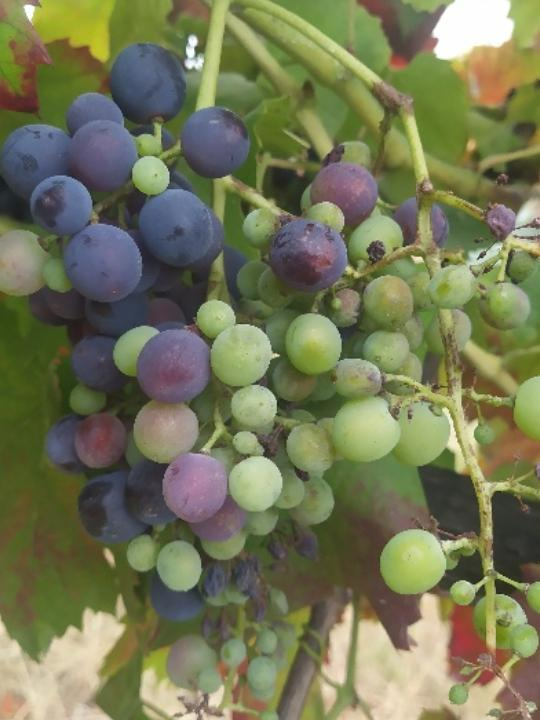grape: (0, 43, 340, 720), (304, 137, 540, 720)
